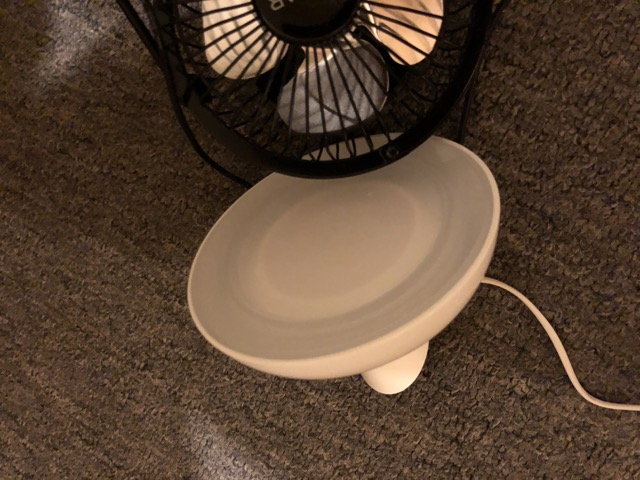fan: (146, 4, 509, 177)
light: (176, 132, 526, 398)
